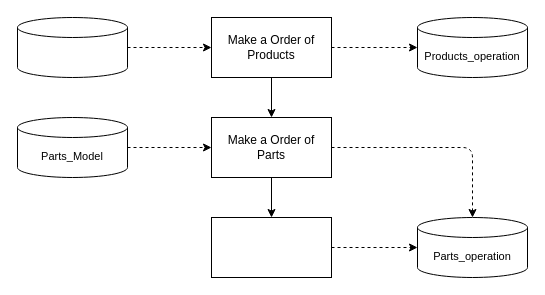
The diagram is 545 pixels wide and 295 high, and some of its shapes have lost their labels. Here are the shapes that lost their labels. From the top down, the box of each, then its label:
(16, 16, 128, 78): Products_Model
(210, 216, 332, 278): Produce Parts
